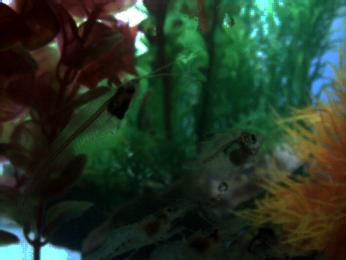X-ray fish: (185, 128, 266, 183), (219, 219, 286, 260)
glassfish: (12, 78, 142, 203)
siberian prawn: (87, 193, 201, 260), (148, 216, 254, 260)
